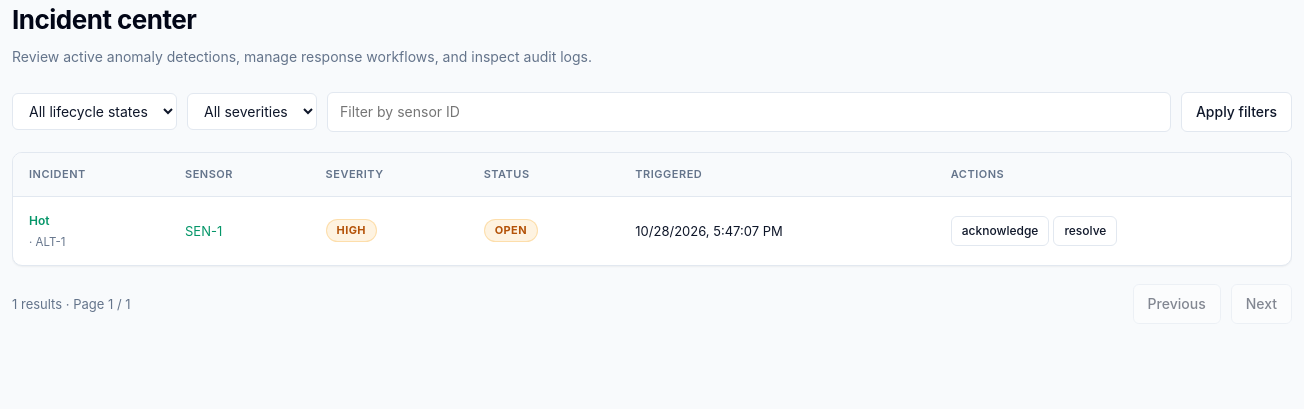
Scenario: dashboard › confirms incident acknowledgement and handles concurrent conflict
Expected: the button "Hot" is shown, [29,212,50,230]
Step 1. Click the button "acknowledge" → (1000, 231), box [951,216,1049,246]
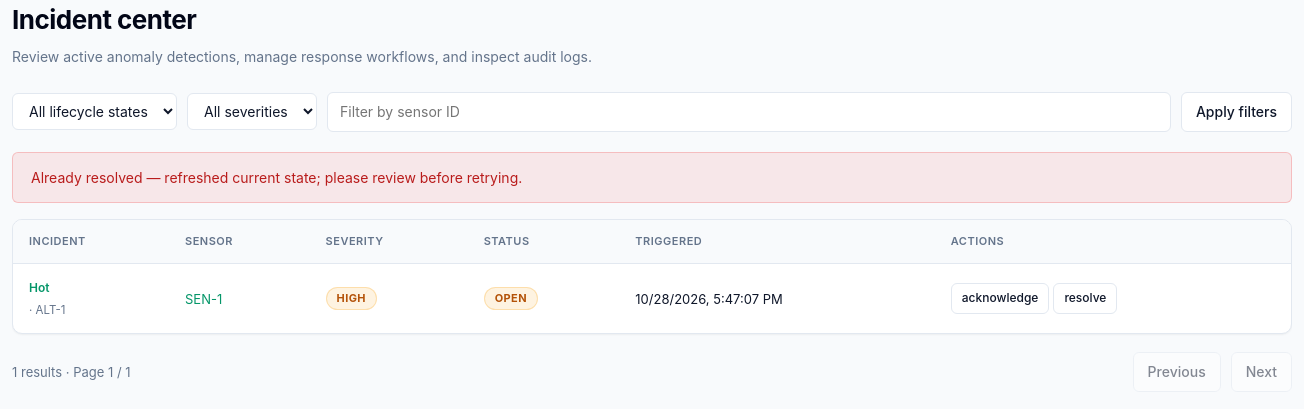
Expected: the message "Already resolved — refreshed current state; please review before retrying." is shown, [12,152,1292,203]
